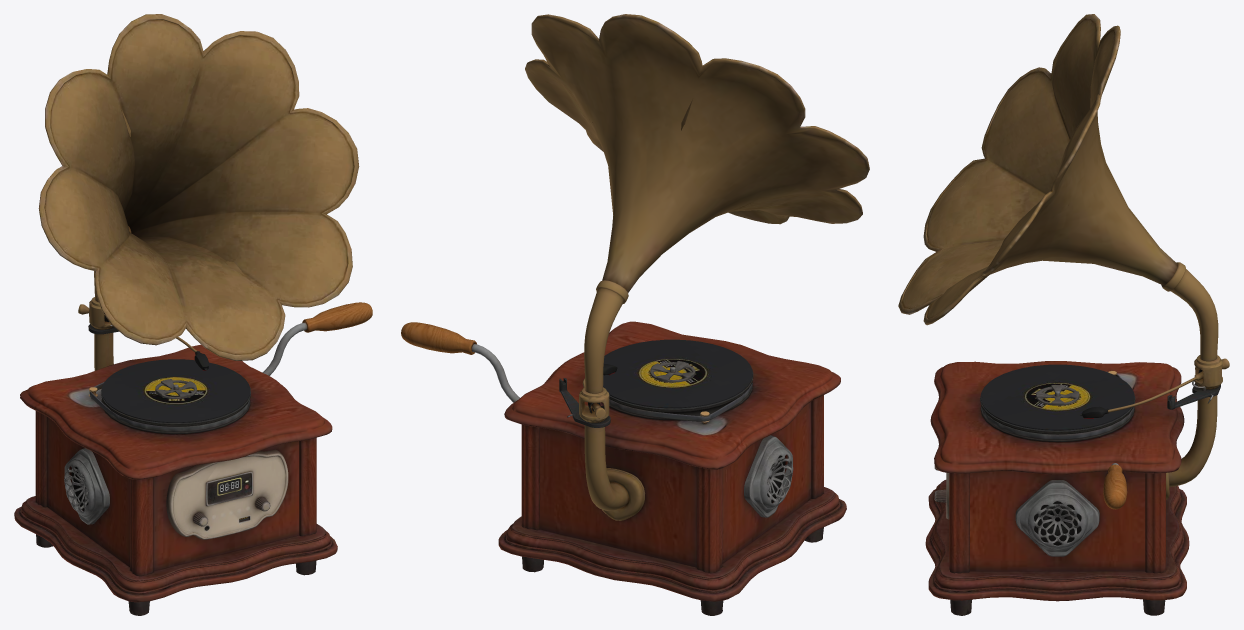
Rendered from gramophone-mobile.glb.
3 views of the same model, side by side, from view 1: azimuth 30°, elevation 25°; view 2: azimuth 150°, elevation 25°; view 3: azimuth 270°, elevation 25° (orthographic). The views are drawn at different scales.
Visible parts, largest first — view 1: Gramophone_Brass_Horn, Gramophone_Wood_Cabinet, Gramophone_Mechanism_Static, Record_Vinyl; view 2: Gramophone_Wood_Cabinet, Gramophone_Brass_Horn, Gramophone_Mechanism_Static, Record_Vinyl; view 3: Gramophone_Wood_Cabinet, Gramophone_Brass_Horn, Gramophone_Mechanism_Static, Record_Vinyl.
Part boxes in pixels (left/top/right/bottom): Gramophone_Brass_Horn: left=38, top=14, right=359, bottom=360; Gramophone_Wood_Cabinet: left=14, top=344, right=337, bottom=615; Gramophone_Mechanism_Static: left=64, top=226, right=372, bottom=539; Record_Vinyl: left=101, top=359, right=250, bottom=422; Gramophone_Wood_Cabinet: left=498, top=321, right=846, bottom=615; Gramophone_Brass_Horn: left=525, top=14, right=869, bottom=292; Gramophone_Mechanism_Static: left=401, top=280, right=793, bottom=520; Record_Vinyl: left=603, top=339, right=752, bottom=408; Gramophone_Wood_Cabinet: left=925, top=361, right=1189, bottom=615; Gramophone_Brass_Horn: left=898, top=14, right=1177, bottom=325; Gramophone_Mechanism_Static: left=934, top=262, right=1229, bottom=556; Record_Vinyl: left=980, top=364, right=1134, bottom=430.
Bounding box in the file's own units: 0.4737 × 0.62 × 0.3448.
3 materials, 3 textured.
